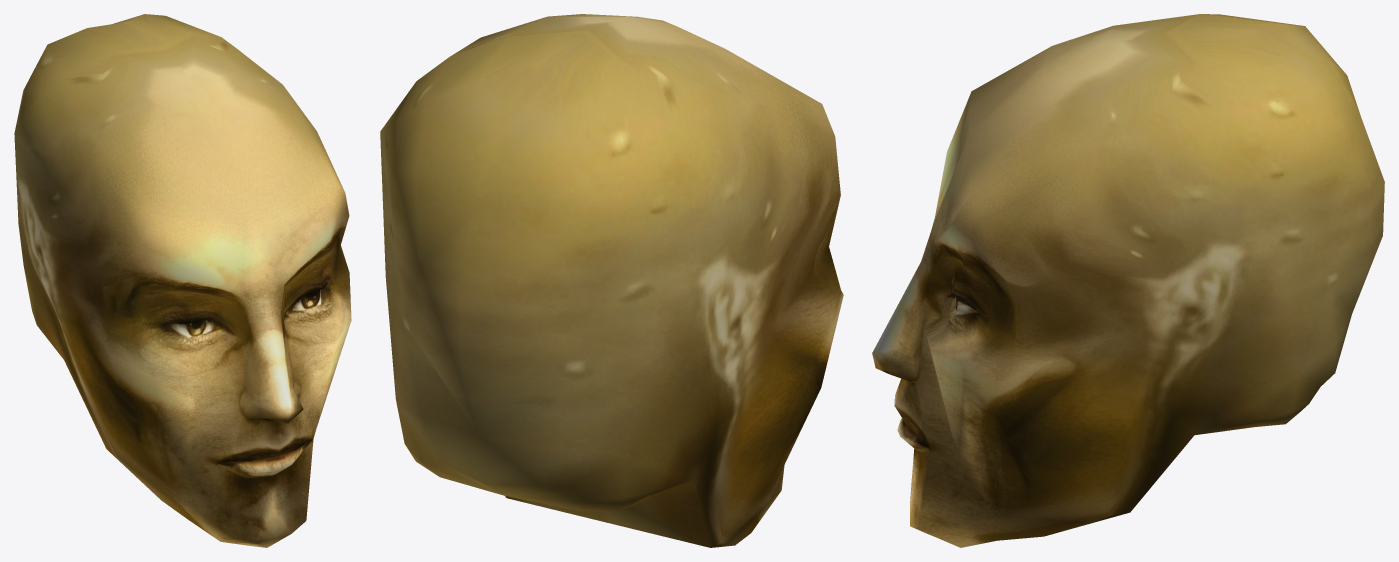
File: b_n_high elf_m_head_06.glb
3 views of the same model, side by side, from view 1: azimuth 30°, elevation 25°; view 2: azimuth 150°, elevation 25°; view 3: azimuth 270°, elevation 25° (orthographic). The views are drawn at different scales.
Visible parts, largest first — view 1: Tri B_N_High Elf_M_Head_06; view 2: Tri B_N_High Elf_M_Head_06; view 3: Tri B_N_High Elf_M_Head_06.
Part boxes in pixels (x1=…): Tri B_N_High Elf_M_Head_06: x1=14, y1=14, x2=351, y2=547; Tri B_N_High Elf_M_Head_06: x1=380, y1=14, x2=843, y2=547; Tri B_N_High Elf_M_Head_06: x1=872, y1=14, x2=1384, y2=547.
Bounding box in the file's own units: 0.0942 × 0.1534 × 0.1412.
1 material, 1 textured.
